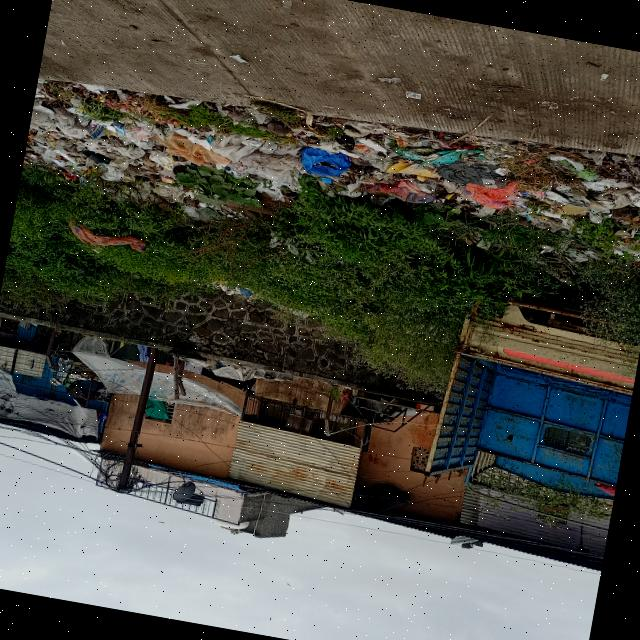garbage: (22, 31, 640, 286)
